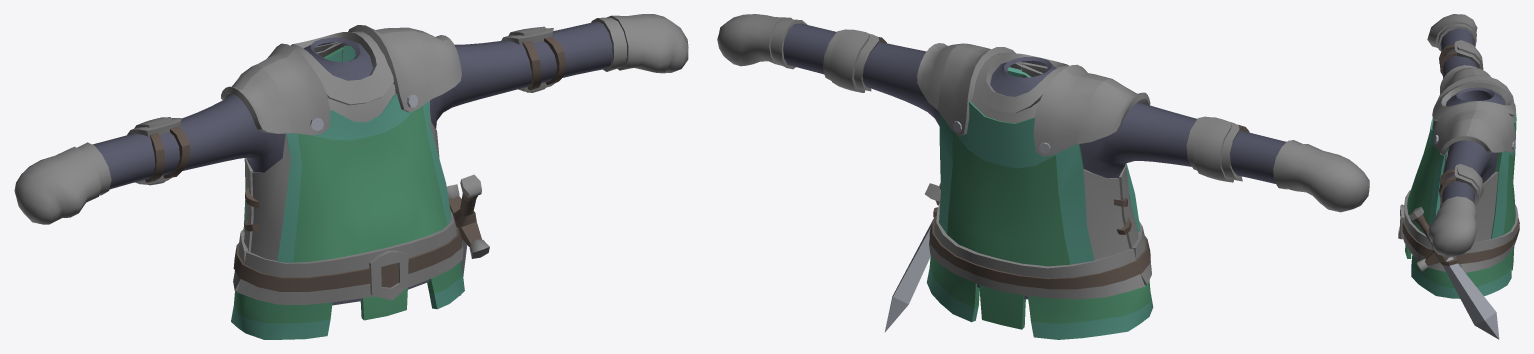
The model's file is 15骑士套装.fbx.
The picture shows the model from 3 angles, left to right: view 1: azimuth 30°, elevation 25°; view 2: azimuth 150°, elevation 25°; view 3: azimuth 270°, elevation 25°; orthographic projection. The views are drawn at different scales.
Visible parts, largest first — view 1: 15骑士套装; view 2: 15骑士套装; view 3: 15骑士套装.
Boxes of the visible parts, x1,y1,x2,y2 form: 15骑士套装: [14, 14, 688, 339]; 15骑士套装: [717, 14, 1369, 339]; 15骑士套装: [1398, 14, 1519, 339].
Bounding box in the file's own units: 1.98 × 0.8621 × 0.4582.
